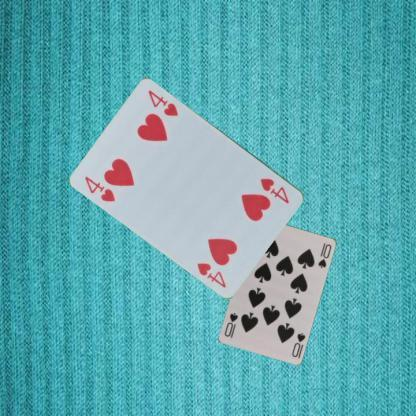10s: (289, 329, 307, 358)
4h: (82, 174, 117, 204), (258, 175, 291, 205)
